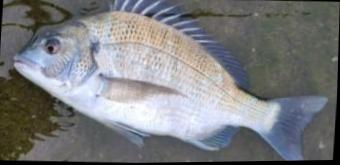fish: (11, 0, 330, 162)
